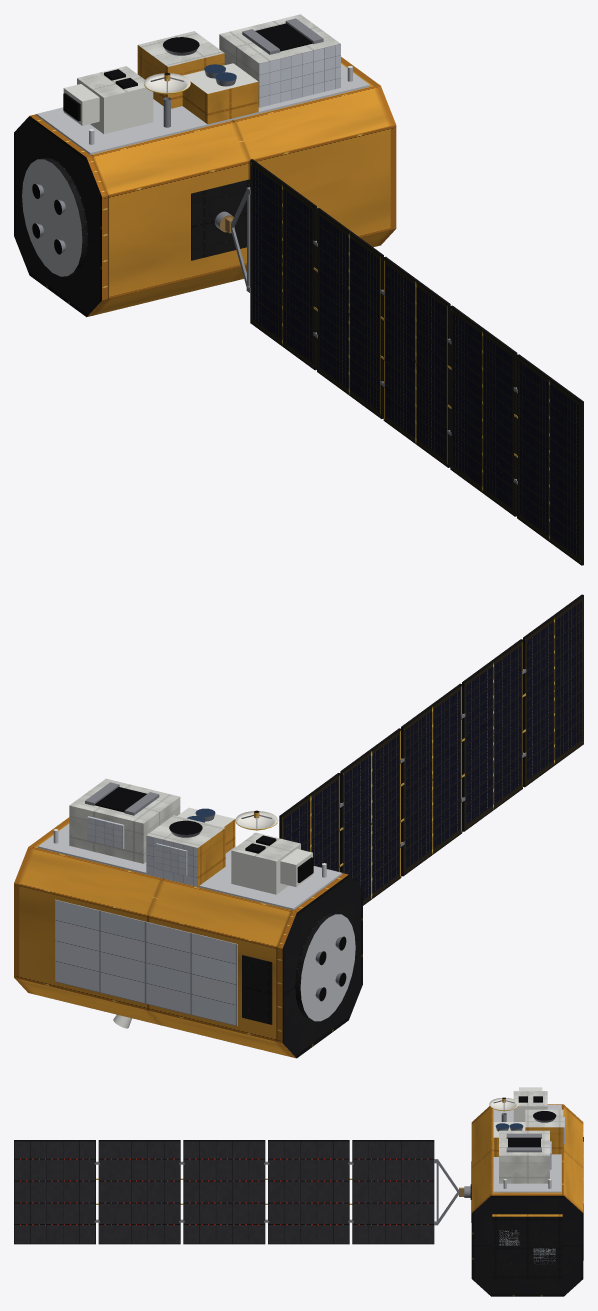
The model's file is noaa-21.glb.
The picture shows the model from 3 angles, top to bottom: view 1: azimuth 30°, elevation 25°; view 2: azimuth 150°, elevation 25°; view 3: azimuth 270°, elevation 25°; orthographic projection. The views are drawn at different scales.
Visible parts, largest first — view 1: wing-Y, bus, nadir_payload_deck; view 2: bus, wing-Y, nadir_payload_deck; view 3: wing-Y, bus, nadir_payload_deck.
Part boxes in pixels (left/top/right/bottom): wing-Y: left=225, top=159, right=583, bottom=565; bus: left=14, top=57, right=396, bottom=317; nadir_payload_deck: left=36, top=14, right=369, bottom=154; bus: left=14, top=817, right=362, bottom=1058; wing-Y: left=279, top=594, right=583, bottom=905; nadir_payload_deck: left=38, top=778, right=342, bottom=910; wing-Y: left=14, top=1140, right=464, bottom=1244; bus: left=471, top=1104, right=583, bottom=1296; nadir_payload_deck: left=489, top=1087, right=564, bottom=1192.
Bounding box in the file's own units: 4.3 × 3.12 × 10.71.
Materials: 17 (6 with a texture image).
